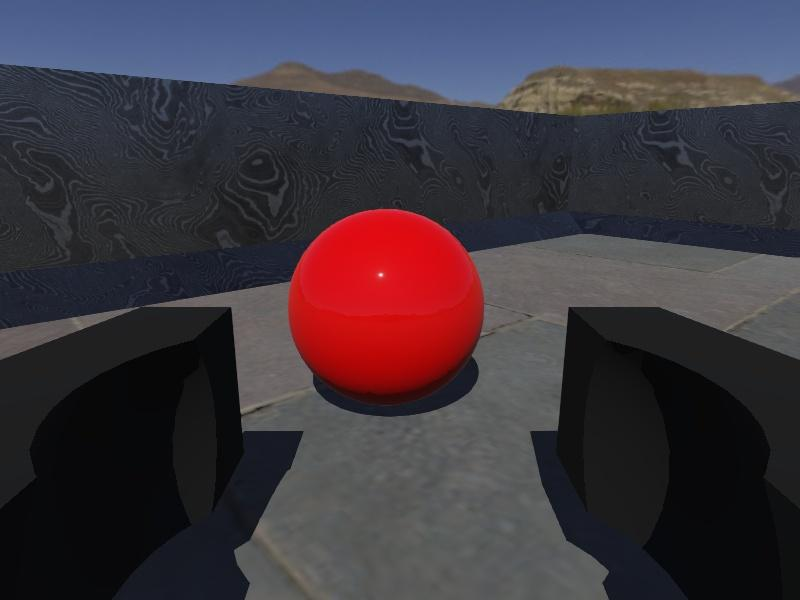red ball: (287, 206, 485, 407)
